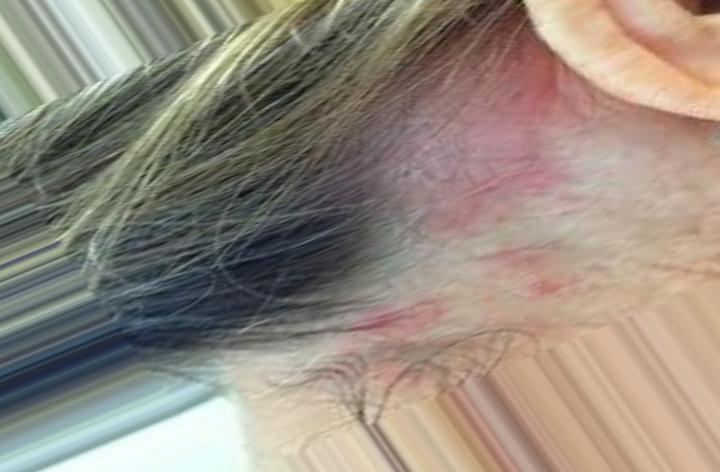Contact Dermatitis: (348, 19, 548, 321)
